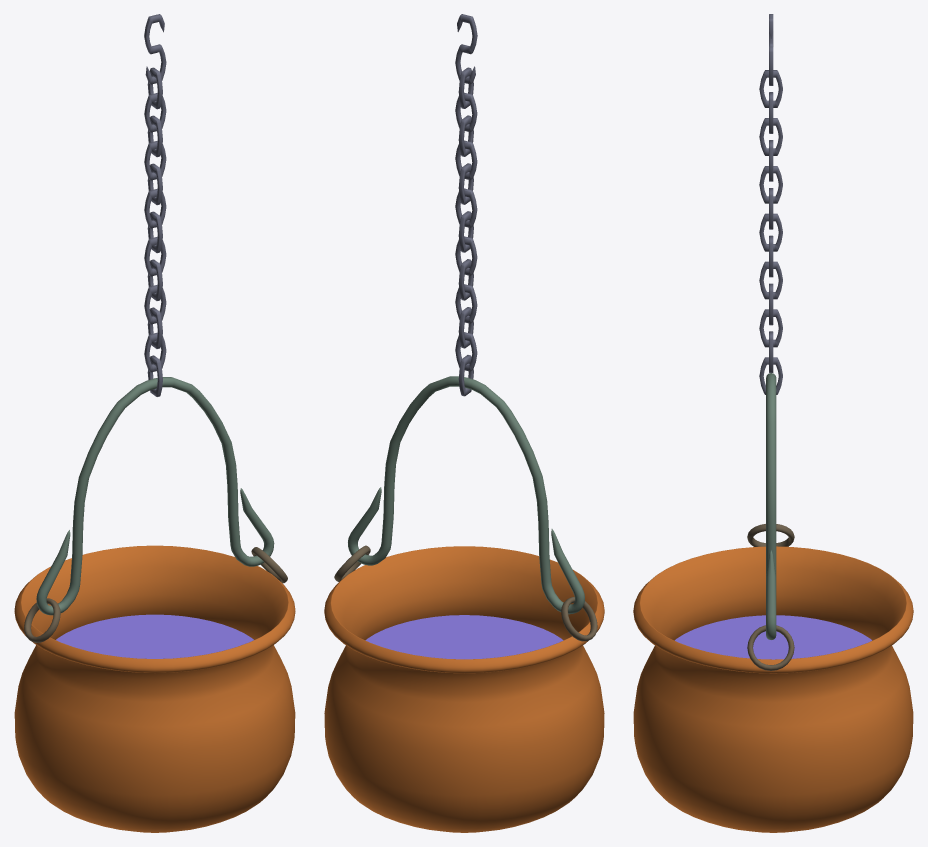
The model's file is Pot 1.fbx.
3 renders of one model, left to right at view 1: azimuth 30°, elevation 25°; view 2: azimuth 150°, elevation 25°; view 3: azimuth 270°, elevation 25°, orthographic.
Parts seen in each view (by area): view 1: Pot_LP, Pot_Liquid; view 2: Pot_LP, Pot_Liquid; view 3: Pot_LP, Pot_Liquid.
Boxes of the visible parts, x1,y1,x2,y2 form: Pot_LP: (14, 14, 295, 832); Pot_Liquid: (56, 614, 253, 658); Pot_LP: (324, 14, 604, 832); Pot_Liquid: (365, 615, 563, 659); Pot_LP: (633, 14, 913, 832); Pot_Liquid: (675, 615, 871, 659).
Bounding box in the file's own units: 160 × 477 × 153.
